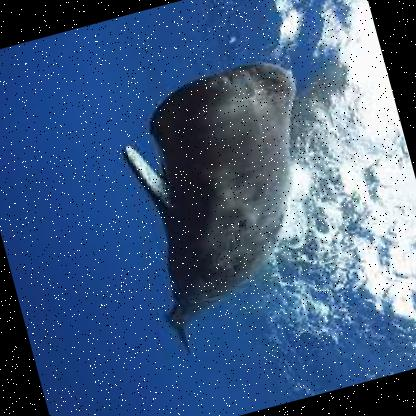sperm_whale: (71, 46, 362, 378)
